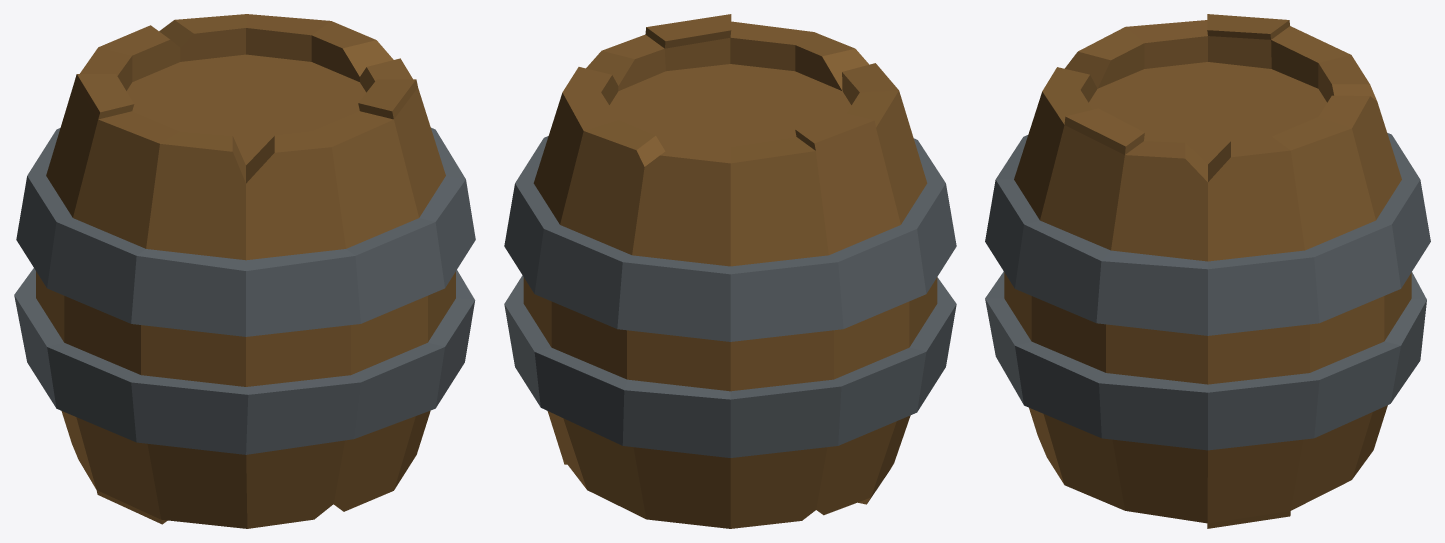
Rendered from Barrel_Wooden_Prop.glb.
The picture shows the model from 3 angles, left to right: view 1: azimuth 30°, elevation 25°; view 2: azimuth 150°, elevation 25°; view 3: azimuth 270°, elevation 25°; orthographic projection. The views are drawn at different scales.
Visible parts, largest first — view 1: Barrel_Wooden_Prop; view 2: Barrel_Wooden_Prop; view 3: Barrel_Wooden_Prop.
Boxes of the visible parts, bbox=[...] form: Barrel_Wooden_Prop: bbox=[14, 14, 475, 528]; Barrel_Wooden_Prop: bbox=[504, 14, 956, 528]; Barrel_Wooden_Prop: bbox=[985, 14, 1430, 528].
Bounding box in the file's own units: 1.18 × 1.11 × 1.18.
Materials: 1 (1 with a texture image).
